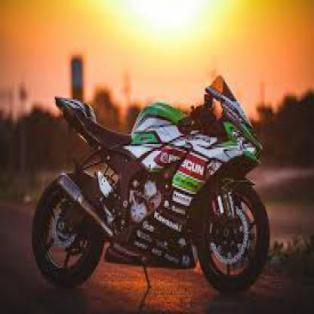Motocicleta: (27, 73, 270, 292)
